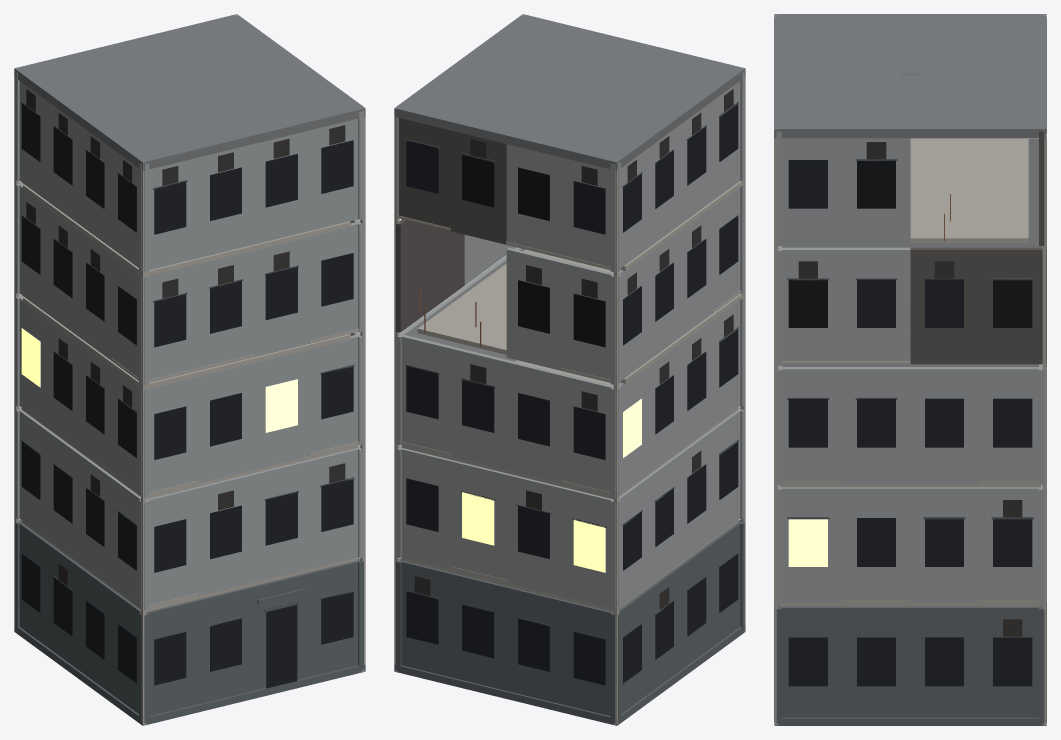
The model's file is highrise.glb.
3 renders of one model, left to right at view 1: azimuth 30°, elevation 25°; view 2: azimuth 150°, elevation 25°; view 3: azimuth 270°, elevation 25°, orthographic. The views are drawn at different scales.
Visible parts, largest first — view 1: building_high_6x6_s17; view 2: building_high_6x6_s17; view 3: building_high_6x6_s17.
Part boxes in pixels (x1,y1,x2,y2): building_high_6x6_s17: [14, 14, 365, 725]; building_high_6x6_s17: [394, 14, 745, 725]; building_high_6x6_s17: [774, 14, 1046, 725].
Bounding box in the file's own units: 6.01 × 14.5 × 6.01.
